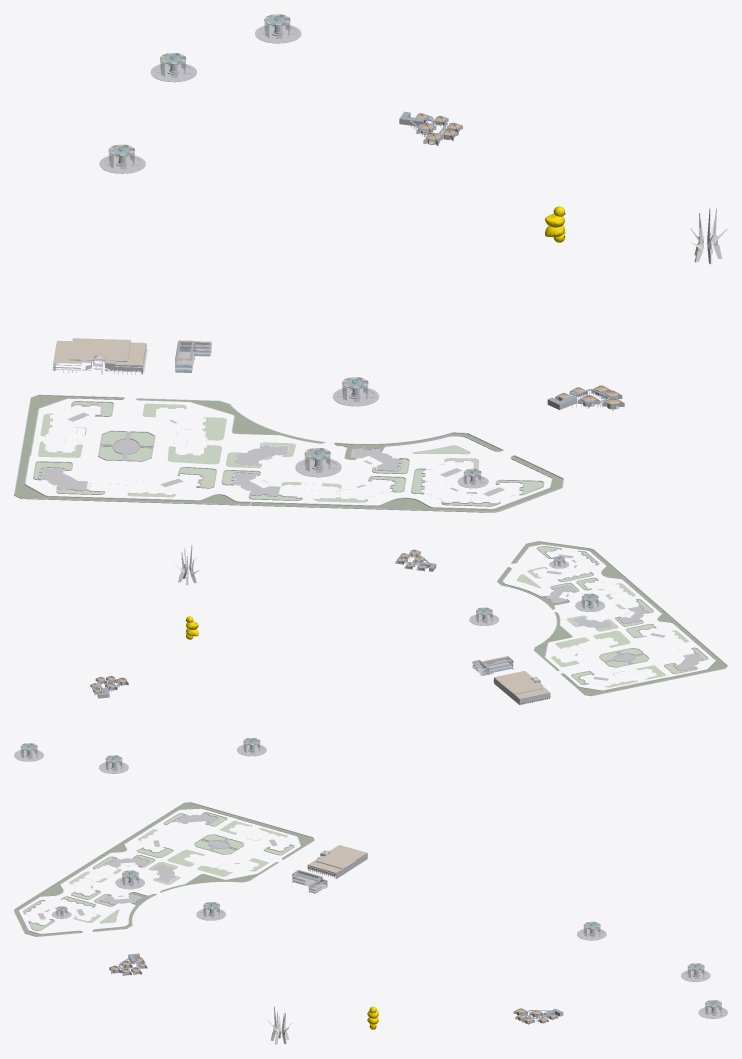
The picture shows the model from 3 angles, top to bottom: view 1: azimuth 30°, elevation 25°; view 2: azimuth 150°, elevation 25°; view 3: azimuth 270°, elevation 25°; orthographic projection. The views are drawn at different scales.
Parts seen in each view (by area): view 1: Mesh11 Group3 Group1 Model Mesh11 Group3 Group1 Model_2 Mesh, Mesh1068 Component_118_1 Group1 Model_1 Mesh1068 Component_1, Mesh1068 Component_118_1 Group1 Model_23 Mesh1068 Component_, Mesh11 Group3 Group1 Model_1 Mesh11 Group3 Group1 Model_3 Me, Mesh155 Group18 Group_438_1 Component_120_1 Component_225_1 ; view 2: Mesh11 Group3 Group1 Model Mesh11 Group3 Group1 Model_2 Mesh, Mesh1068 Component_118_1 Group1 Model_1 Mesh1068 Component_1, Mesh1068 Component_118_1 Group1 Model_23 Mesh1068 Component_, Mesh11 Group3 Group1 Model_1 Mesh11 Group3 Group1 Model_3 Me, Mesh155 Group18 Group_438_1 Component_120_1 Component_225_1 , Mesh1 half_1_1 full_piece1 Group2 Group1 Model Mesh2 half_1_; view 3: Mesh11 Group3 Group1 Model Mesh11 Group3 Group1 Model_2 Mesh, Mesh1068 Component_118_1 Group1 Model_1 Mesh1068 Component_1, Mesh1068 Component_118_1 Group1 Model_23 Mesh1068 Component_, Mesh11 Group3 Group1 Model_1 Mesh11 Group3 Group1 Model_3 Me, Mesh155 Group18 Group_438_1 Component_120_1 Component_225_1 .
Part boxes in pixels (left/top/right/bottom): Mesh11 Group3 Group1 Model Mesh11 Group3 Group1 Model_2 Mesh: left=14, top=14, right=624, bottom=512; Mesh1068 Component_118_1 Group1 Model_1 Mesh1068 Component_1: left=34, top=402, right=543, bottom=505; Mesh1068 Component_118_1 Group1 Model_23 Mesh1068 Component_: left=15, top=395, right=562, bottom=511; Mesh11 Group3 Group1 Model_1 Mesh11 Group3 Group1 Model_3 Me: left=53, top=338, right=146, bottom=365; Mesh155 Group18 Group_438_1 Component_120_1 Component_225_1 : left=109, top=16, right=480, bottom=484; Mesh11 Group3 Group1 Model Mesh11 Group3 Group1 Model_2 Mesh: left=14, top=541, right=727, bottom=773; Mesh1068 Component_118_1 Group1 Model_1 Mesh1068 Component_1: left=517, top=546, right=707, bottom=687; Mesh1068 Component_118_1 Group1 Model_23 Mesh1068 Component_: left=498, top=541, right=726, bottom=695; Mesh11 Group3 Group1 Model_1 Mesh11 Group3 Group1 Model_3 Me: left=494, top=671, right=549, bottom=698; Mesh155 Group18 Group_438_1 Component_120_1 Component_225_1 : left=21, top=557, right=598, bottom=770; Mesh1 half_1_1 full_piece1 Group2 Group1 Model Mesh2 half_1_: left=175, top=545, right=199, bottom=585; Mesh11 Group3 Group1 Model Mesh11 Group3 Group1 Model_2 Mesh: left=14, top=802, right=727, bottom=1024; Mesh1068 Component_118_1 Group1 Model_1 Mesh1068 Component_1: left=24, top=812, right=293, bottom=930; Mesh1068 Component_118_1 Group1 Model_23 Mesh1068 Component_: left=14, top=802, right=313, bottom=936; Mesh11 Group3 Group1 Model_1 Mesh11 Group3 Group1 Model_3 Me: left=308, top=845, right=367, bottom=872; Mesh155 Group18 Group_438_1 Component_120_1 Component_225_1 : left=56, top=872, right=721, bottom=1015.
Bounding box in the file's own units: 473653 × 41903 × 586514.
Materials: 18 (4 with a texture image).
